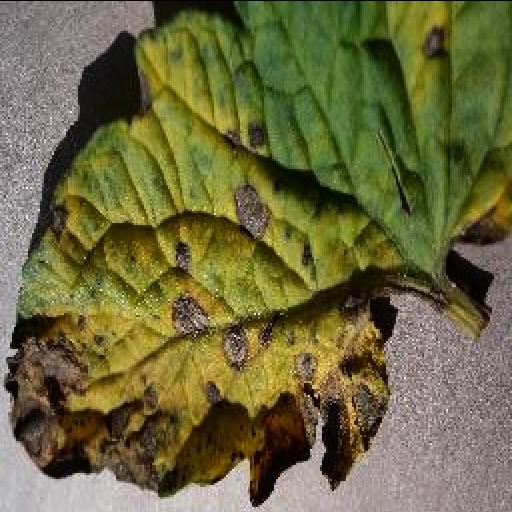disease_tomato: (4, 0, 512, 506)
